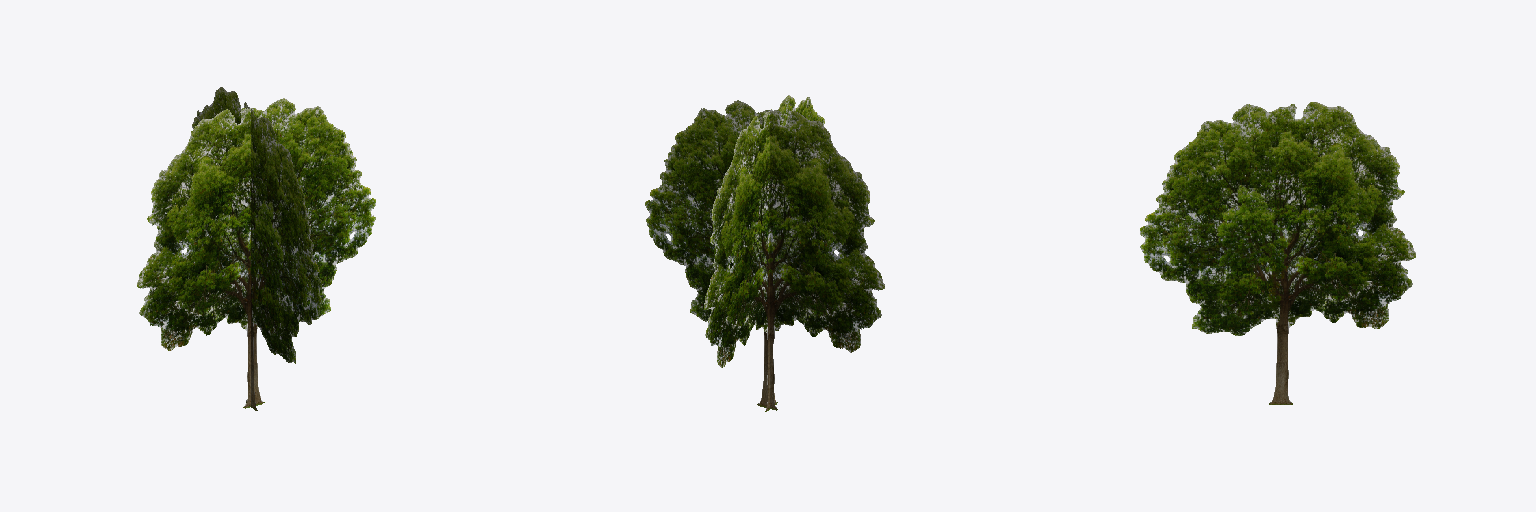
The picture shows the model from 3 angles: view 1: azimuth 30°, elevation 25°; view 2: azimuth 150°, elevation 25°; view 3: azimuth 270°, elevation 25°; orthographic projection.
Visible parts, largest first — view 1: Mesh1 Model, Mesh2 Model; view 2: Mesh1 Model, Mesh2 Model; view 3: Mesh2 Model.
Boxes of the visible parts, x1,y1,x2,y2 form: Mesh1 Model: [137, 98, 375, 408]; Mesh2 Model: [192, 87, 321, 410]; Mesh1 Model: [645, 100, 884, 410]; Mesh2 Model: [704, 95, 824, 411]; Mesh2 Model: [1140, 102, 1415, 404].
Size of the model in its own units: 7.94 by 9.98 by 7.94.
Materials: 1 (1 with a texture image).